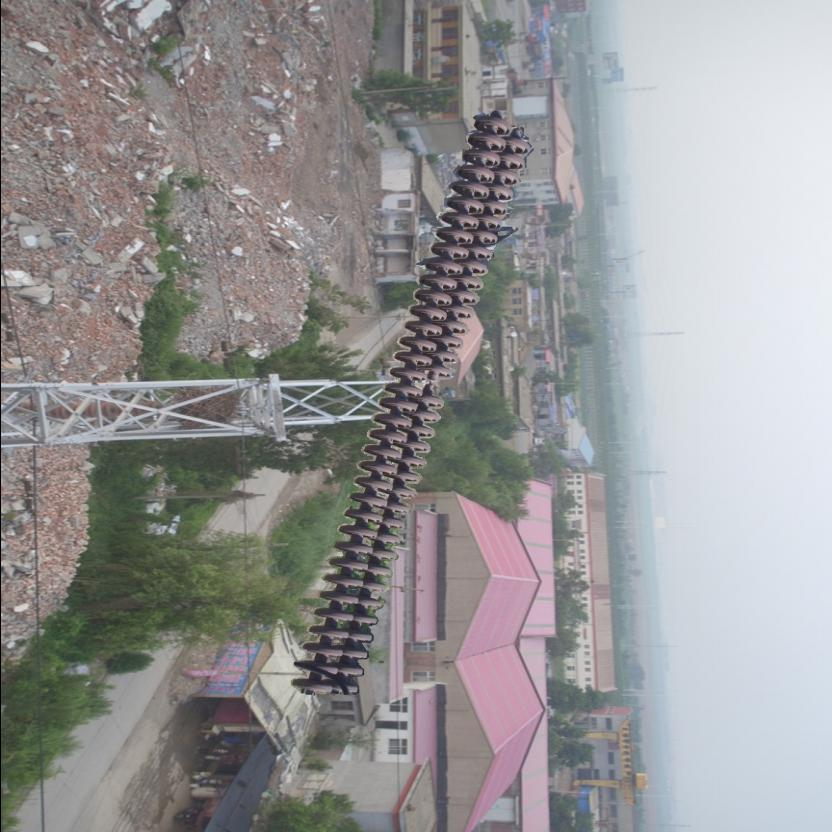defect: (417, 359, 455, 409)
